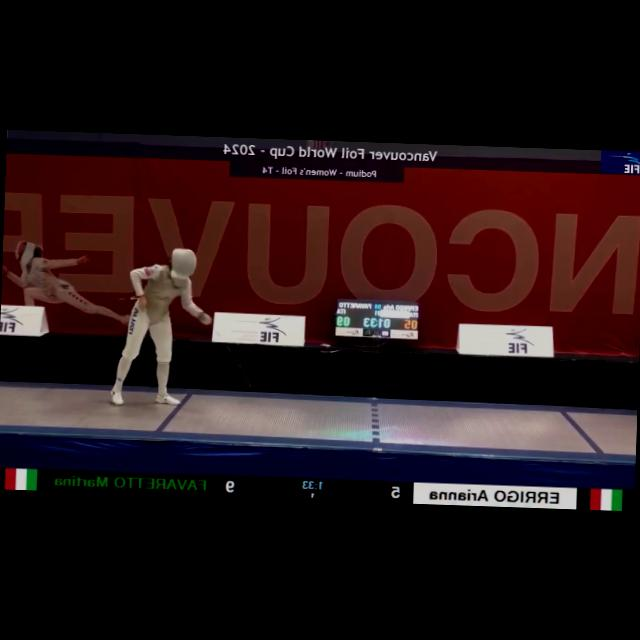blade: (196, 313, 254, 388)
